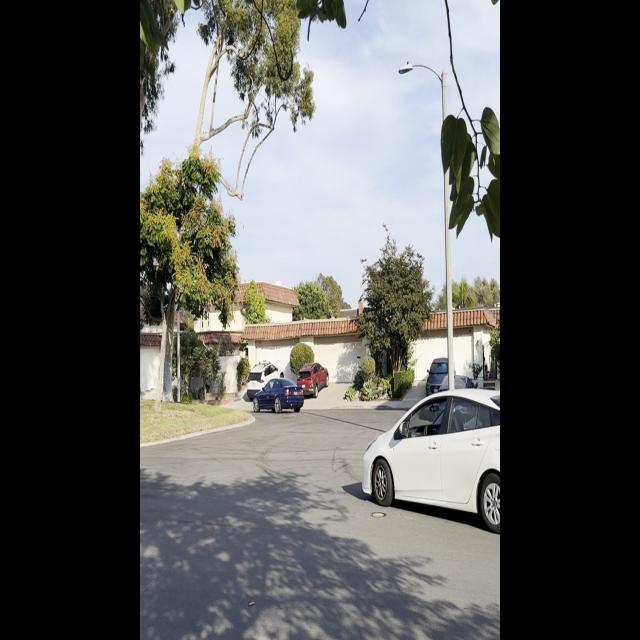Carbeetle: (252, 375, 306, 417)
Civilian: (361, 383, 500, 518), (300, 359, 331, 392), (428, 350, 450, 396), (244, 358, 268, 394)
